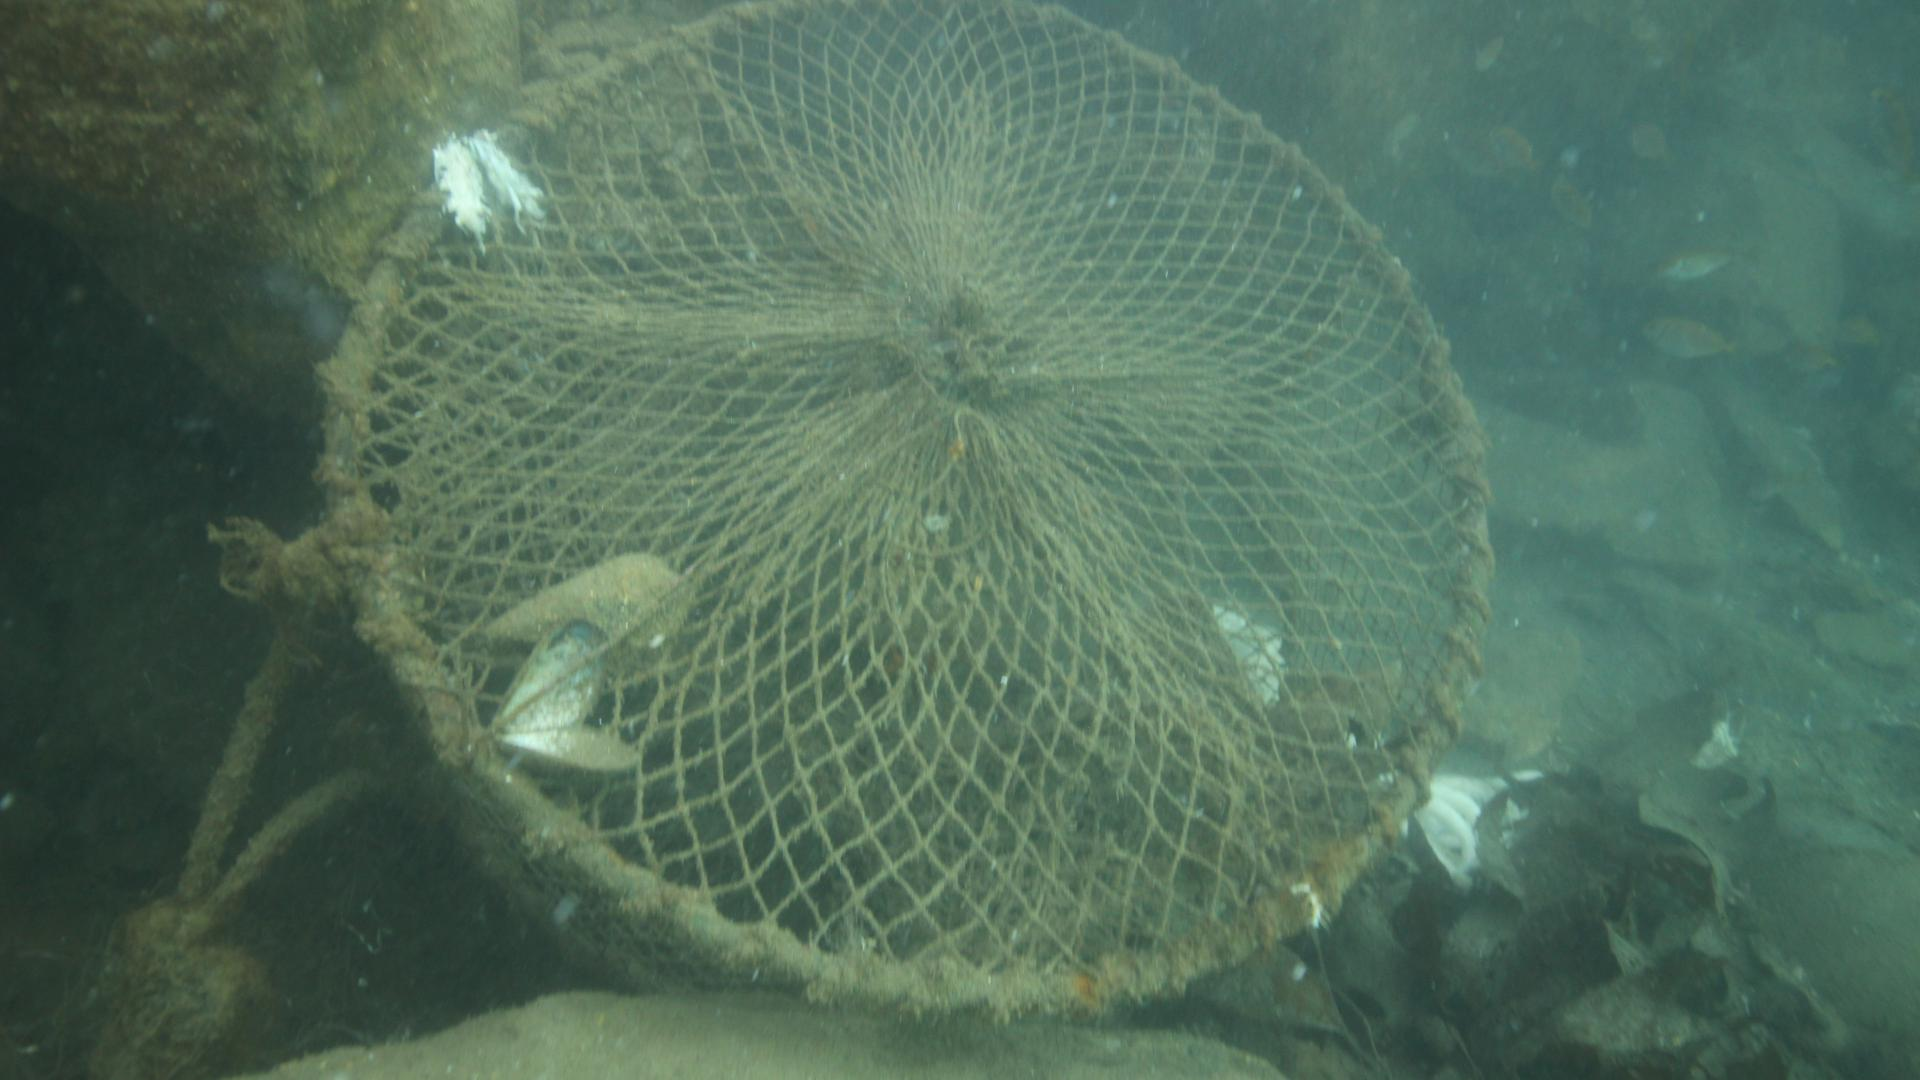circular fish trap: (309, 0, 1493, 1023)
